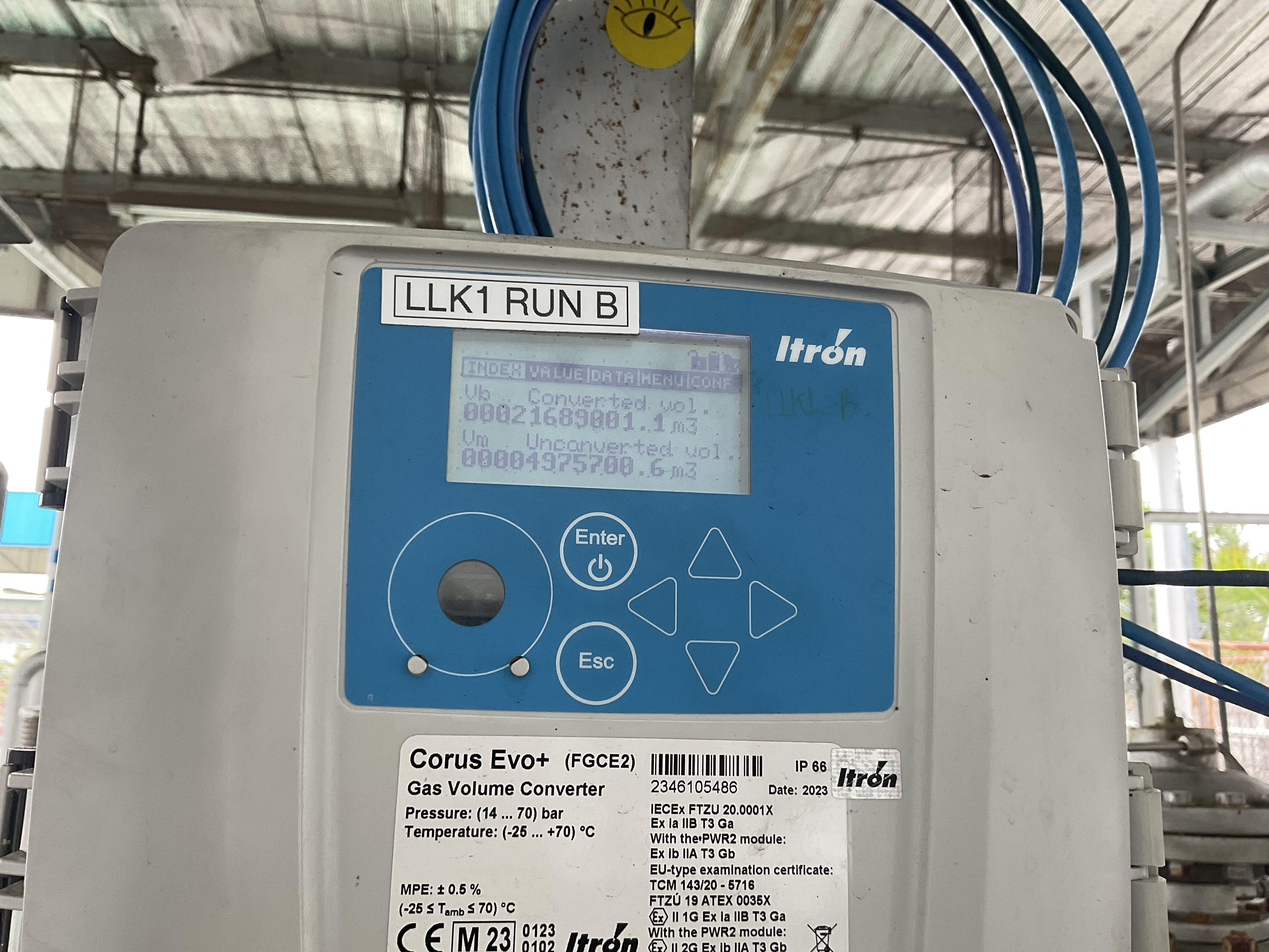digital_screen: (446, 319, 758, 495)
